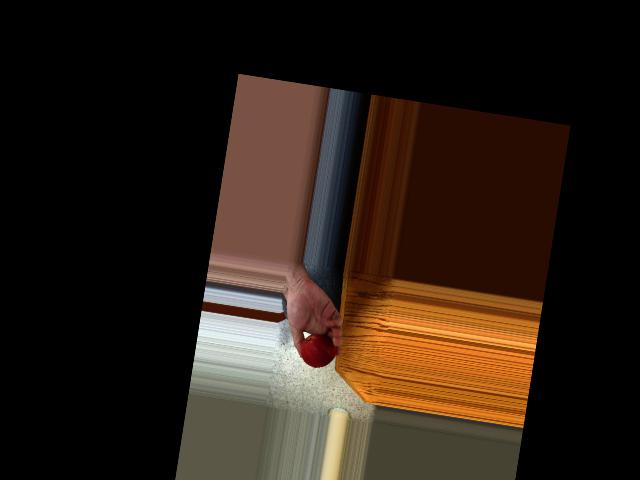apple: (298, 330, 337, 372)
